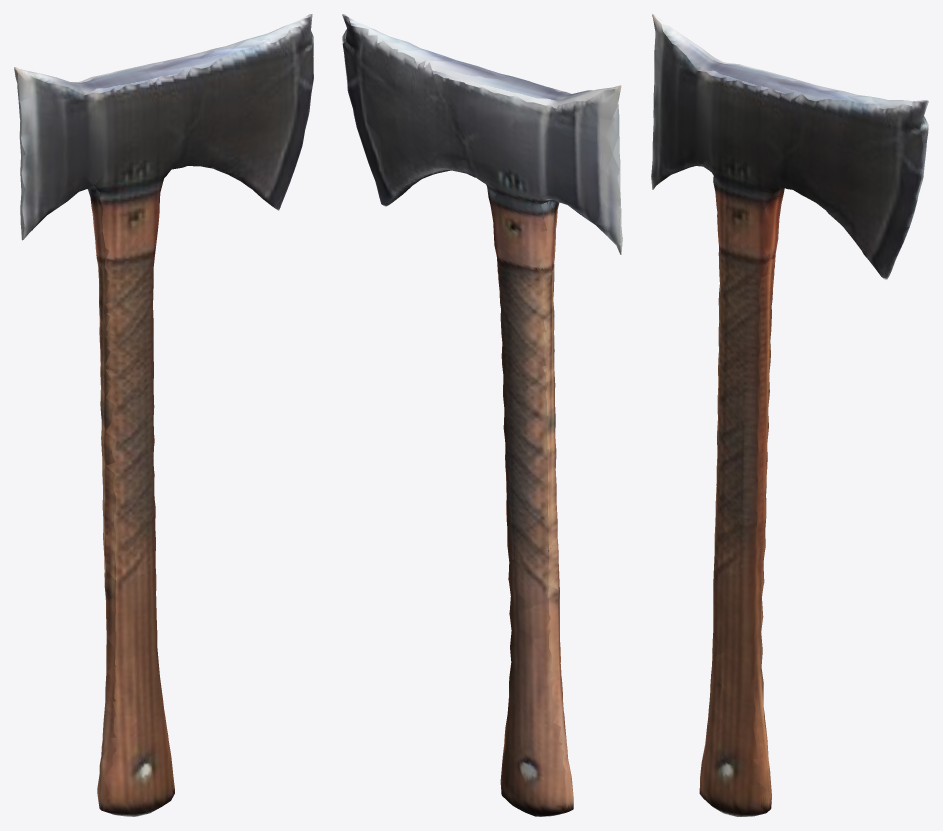
3 renders of one model, left to right at view 1: azimuth 30°, elevation 25°; view 2: azimuth 150°, elevation 25°; view 3: azimuth 330°, elevation 25°, orthographic.
Parts seen in each view (by area): view 1: world; view 2: world; view 3: world.
Boxes of the visible parts, x1,y1,x2,y2 form: world: (14,14,313,816); world: (342,14,622,816); world: (651,14,928,816).
Size of the model in its own units: 0.3881 by 0.9775 by 0.0865.
1 material, 1 textured.
